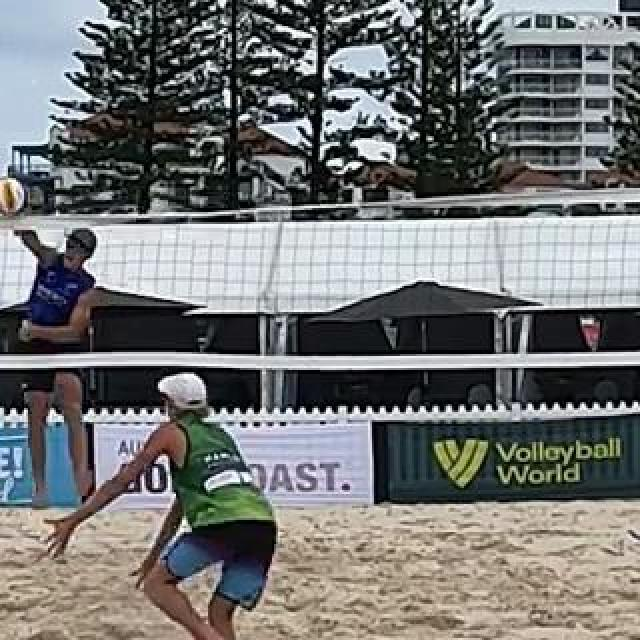volleyball: (0, 178, 26, 212)
